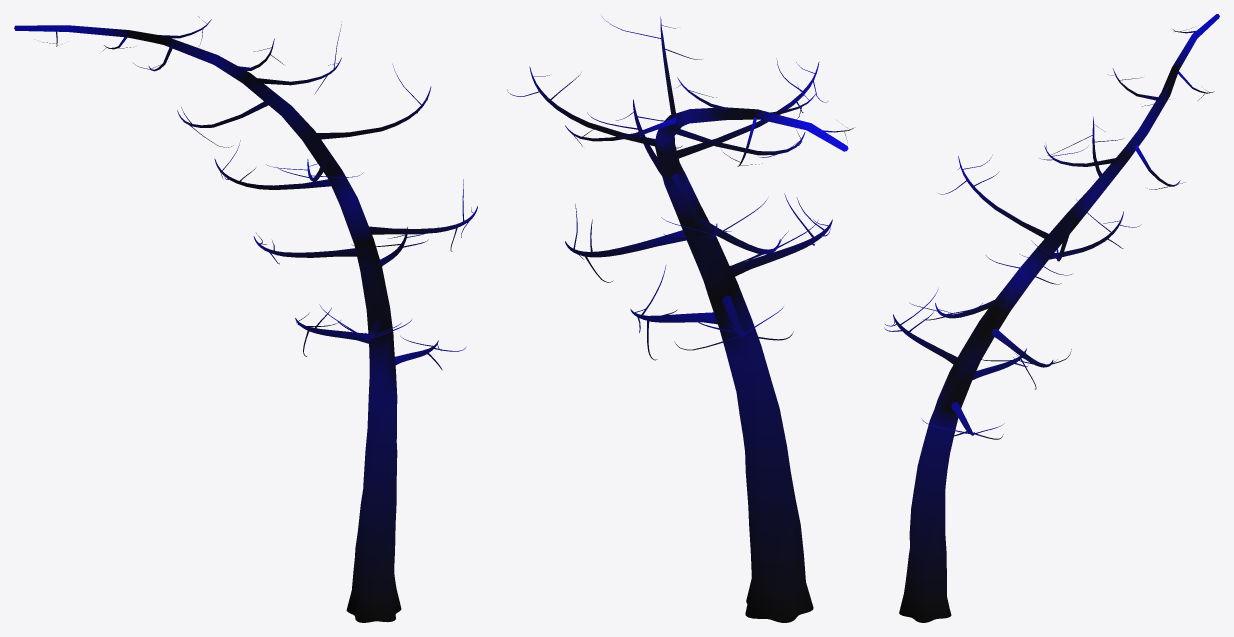
File: Warped Trunk 003.fbx
3 renders of one model, left to right at view 1: azimuth 30°, elevation 25°; view 2: azimuth 150°, elevation 25°; view 3: azimuth 270°, elevation 25°, orthographic. The views are drawn at different scales.
Parts seen in each view (by area): view 1: Warped_Trunk_003_LOD0; view 2: Warped_Trunk_003_LOD0; view 3: Warped_Trunk_003_LOD0.
Part boxes in pixels (x1=…): Warped_Trunk_003_LOD0: x1=14, y1=16, x2=477, y2=622; Warped_Trunk_003_LOD0: x1=507, y1=17, x2=854, y2=622; Warped_Trunk_003_LOD0: x1=884, y1=14, x2=1219, y2=622.
Size of what is drawn, in the model's own units: 458 by 690 by 419.
